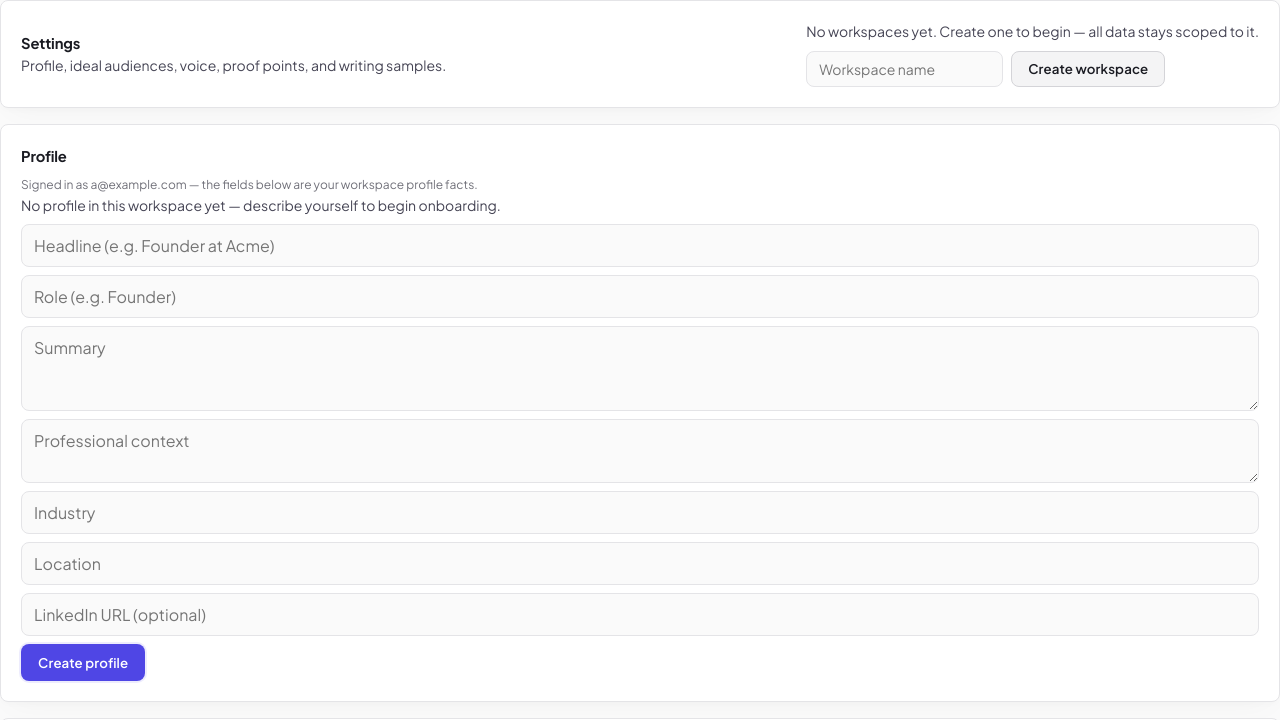
Test: SettingsPage profile section › creates the profile through the real API path and shows it
The image size is (1280, 720).
expect the button "Create profile" is shown: met, box x1=21 y1=644 x2=145 y2=681
Type "Founder at Acme" into the field labelled "Headline". click: (640, 246)
box: x1=21 y1=224 x2=1259 y2=267
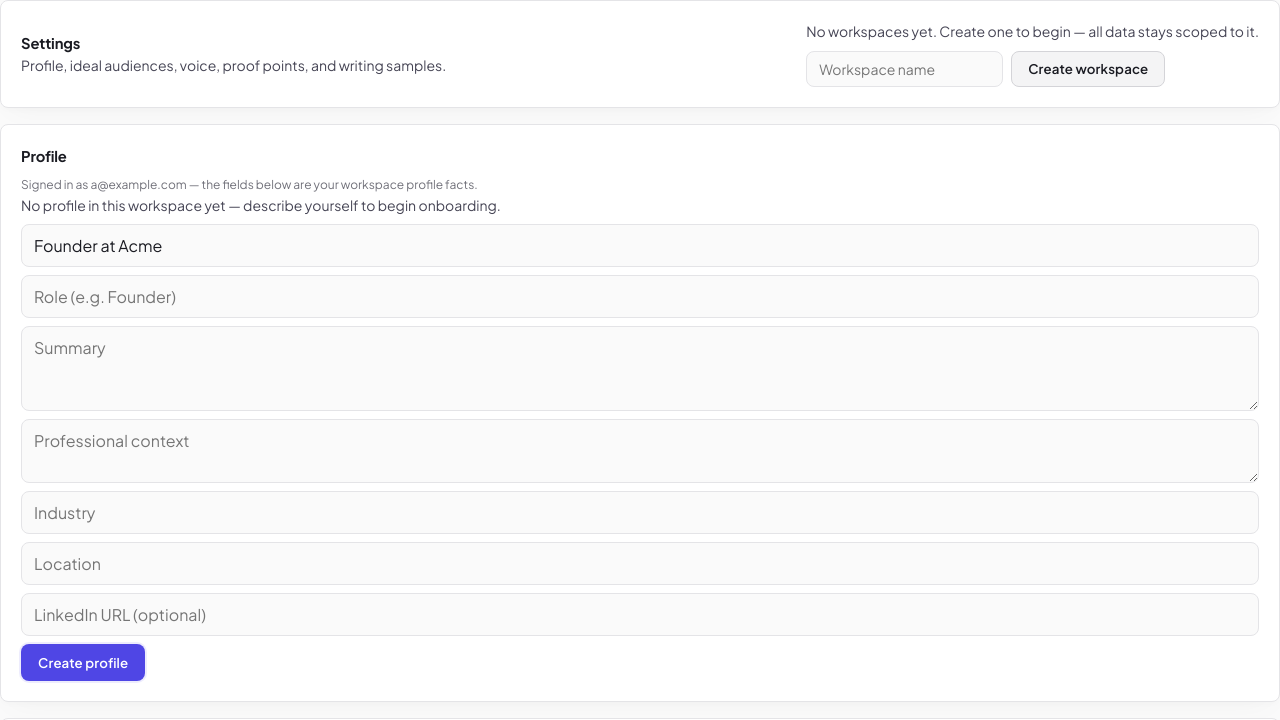
Type "Founder" into the field labelled "Role". click: (640, 297)
box: x1=21 y1=275 x2=1259 y2=318
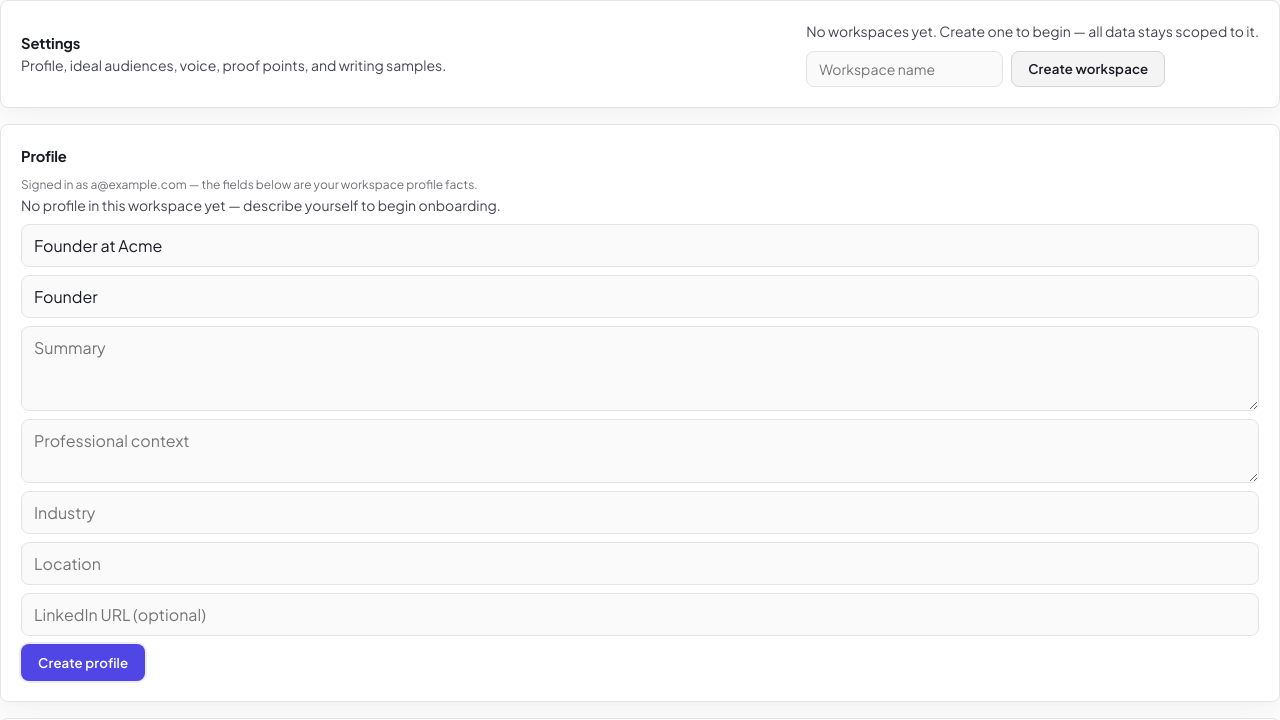
Click the button "Create profile". click: (83, 663)
box: x1=21 y1=644 x2=145 y2=681
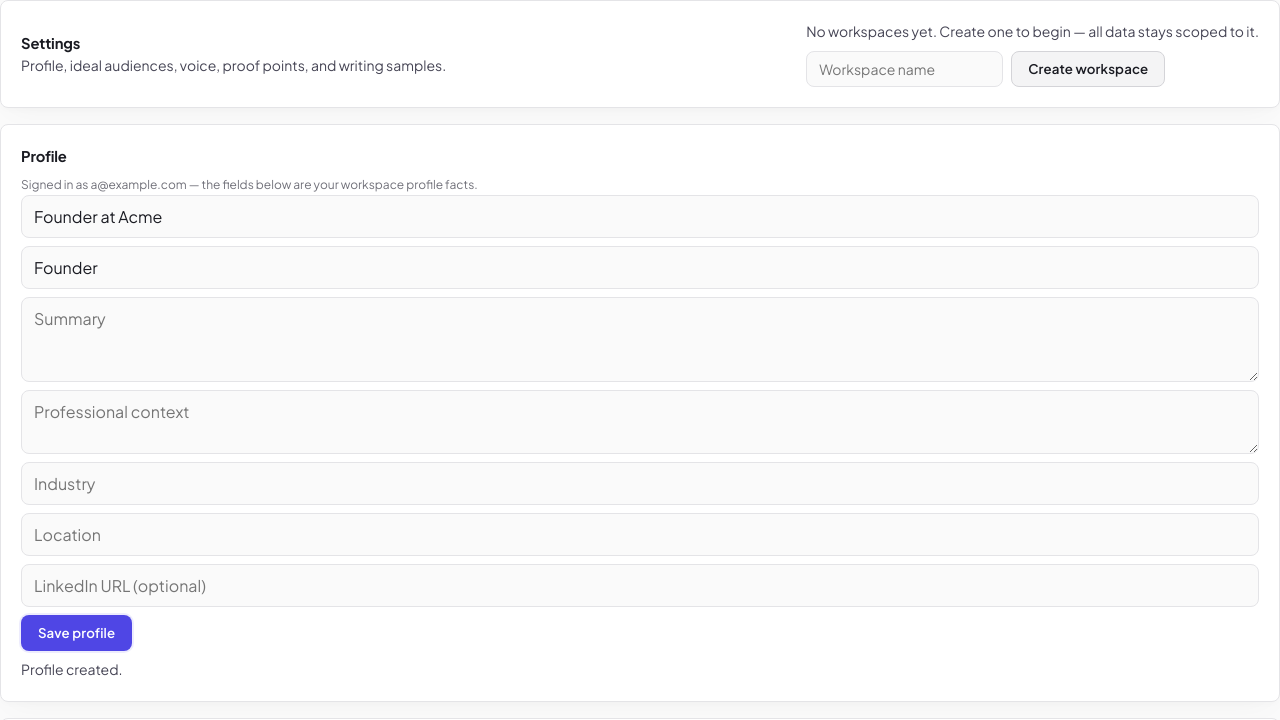
expect the text "Profile created." is shown: met, box x1=21 y1=660 x2=122 y2=678
